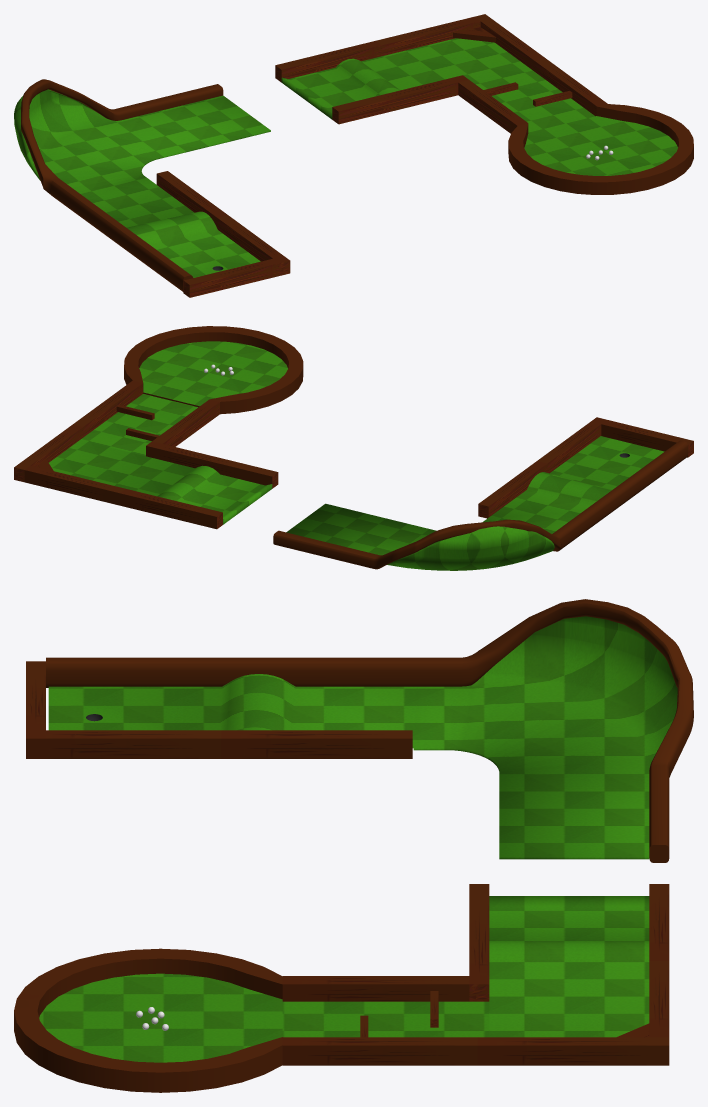
Rendered from Platform.fbx.
3 views of the same model, one above another, from view 1: azimuth 30°, elevation 25°; view 2: azimuth 150°, elevation 25°; view 3: azimuth 270°, elevation 25° (orthographic). The views are drawn at different scales.
Visible parts, largest first — view 1: Plane.002, Plane.001, Circle.001, Cube.005, Circle, Plane, jkylç.PNG.004, jkylç.PNG.009, jkylç.PNG.006, jkylç.PNG.005, jkylç.PNG.007, jkylç.PNG.002 (+3 smaller); view 2: Plane.002, Plane.001, Circle.001, Cube.005, Circle, Plane, jkylç.PNG.004, jkylç.PNG.006, jkylç.PNG.005, jkylç.PNG.009, jkylç.PNG.008, jkylç.PNG.007 (+3 smaller); view 3: Plane.002, Plane.001, Cube.005, Circle.001, Circle, Plane, jkylç.PNG.003, jkylç.PNG.007, jkylç.PNG.001, jkylç.PNG.008, jkylç.PNG.002, jkylç.PNG.004 (+3 smaller).
Boxes of the visible parts, box(x1,y1,x2,y2) form: Plane.002: box(14, 89, 270, 277); Plane.001: box(281, 38, 530, 119); Circle.001: box(524, 116, 677, 175); Cube.005: box(21, 79, 223, 291); Circle: box(508, 104, 693, 194); Plane: box(474, 69, 594, 132); jkylç.PNG.004: box(332, 75, 468, 124); jkylç.PNG.009: box(183, 258, 279, 297); jkylç.PNG.006: box(275, 41, 381, 82); jkylç.PNG.005: box(376, 17, 480, 55); jkylç.PNG.007: box(217, 215, 290, 275); jkylç.PNG.002: box(458, 80, 527, 133); Plane.002: box(286, 436, 664, 570); Plane.001: box(49, 440, 272, 524); Circle.001: box(139, 341, 287, 406); Cube.005: box(273, 440, 688, 569); Circle: box(124, 326, 303, 414); Plane: box(80, 394, 197, 456); jkylç.PNG.004: box(146, 441, 278, 488); jkylç.PNG.006: box(120, 489, 222, 529); jkylç.PNG.005: box(24, 465, 125, 505); jkylç.PNG.009: box(601, 420, 693, 457); jkylç.PNG.008: box(478, 461, 547, 518); jkylç.PNG.007: box(537, 417, 606, 473); Plane.002: box(48, 616, 677, 859); Plane.001: box(489, 896, 649, 1037); Cube.005: box(46, 599, 693, 862); Circle.001: box(39, 973, 282, 1062); Circle: box(14, 948, 282, 1092); Plane: box(282, 1001, 489, 1037); jkylç.PNG.003: box(282, 1037, 477, 1065); jkylç.PNG.007: box(26, 730, 221, 758); jkylç.PNG.001: box(477, 1037, 669, 1065); jkylç.PNG.008: box(221, 730, 412, 758); jkylç.PNG.002: box(282, 976, 469, 1001); jkylç.PNG.004: box(469, 884, 489, 1001).
Size of the model in its own units: 3068 by 354 by 2120.
